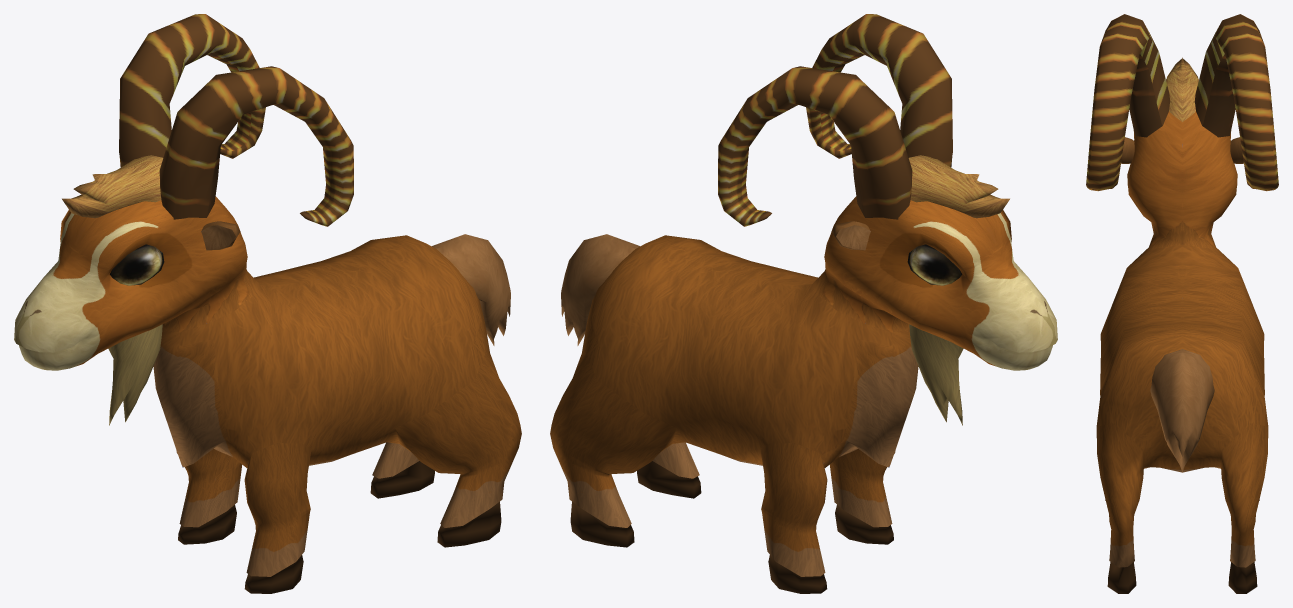
Rendered from bode.FBX.
3 views of the same model, side by side, from view 1: azimuth 30°, elevation 25°; view 2: azimuth 150°, elevation 25°; view 3: azimuth 270°, elevation 25° (orthographic). The views are drawn at different scales.
Parts seen in each view (by area): view 1: Object001, Chifre; view 2: Object001, Chifre; view 3: Object001, Chifre.
Part boxes in pixels (x1,y1,x2,y2): Object001: (14, 155, 521, 593); Chifre: (119, 14, 353, 226); Object001: (550, 155, 1057, 593); Chifre: (718, 14, 952, 226); Object001: (1096, 57, 1268, 593); Chifre: (1086, 14, 1278, 191).
Size of the model in its own units: 13.79 by 13.85 by 5.24.
